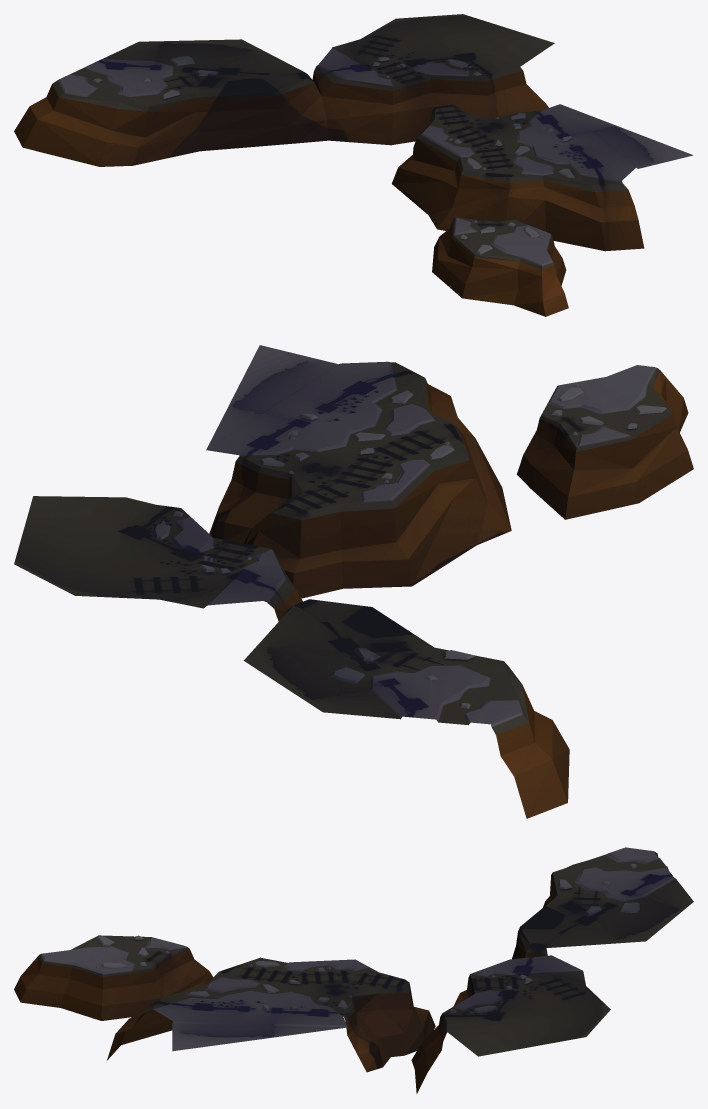
The model's file is Ground_02.FBX.
The picture shows the model from 3 angles, top to bottom: view 1: azimuth 30°, elevation 25°; view 2: azimuth 150°, elevation 25°; view 3: azimuth 270°, elevation 25°; orthographic projection. The views are drawn at different scales.
Parts seen in each view (by area): view 1: Ground_02; view 2: Ground_02; view 3: Ground_02.
Boxes of the visible parts, <box> form: Ground_02: <box>14,14,693,316</box>; Ground_02: <box>14,345,693,818</box>; Ground_02: <box>14,847,693,1093</box>.
Bounding box in the file's own units: 39.34 × 4.42 × 49.78.
